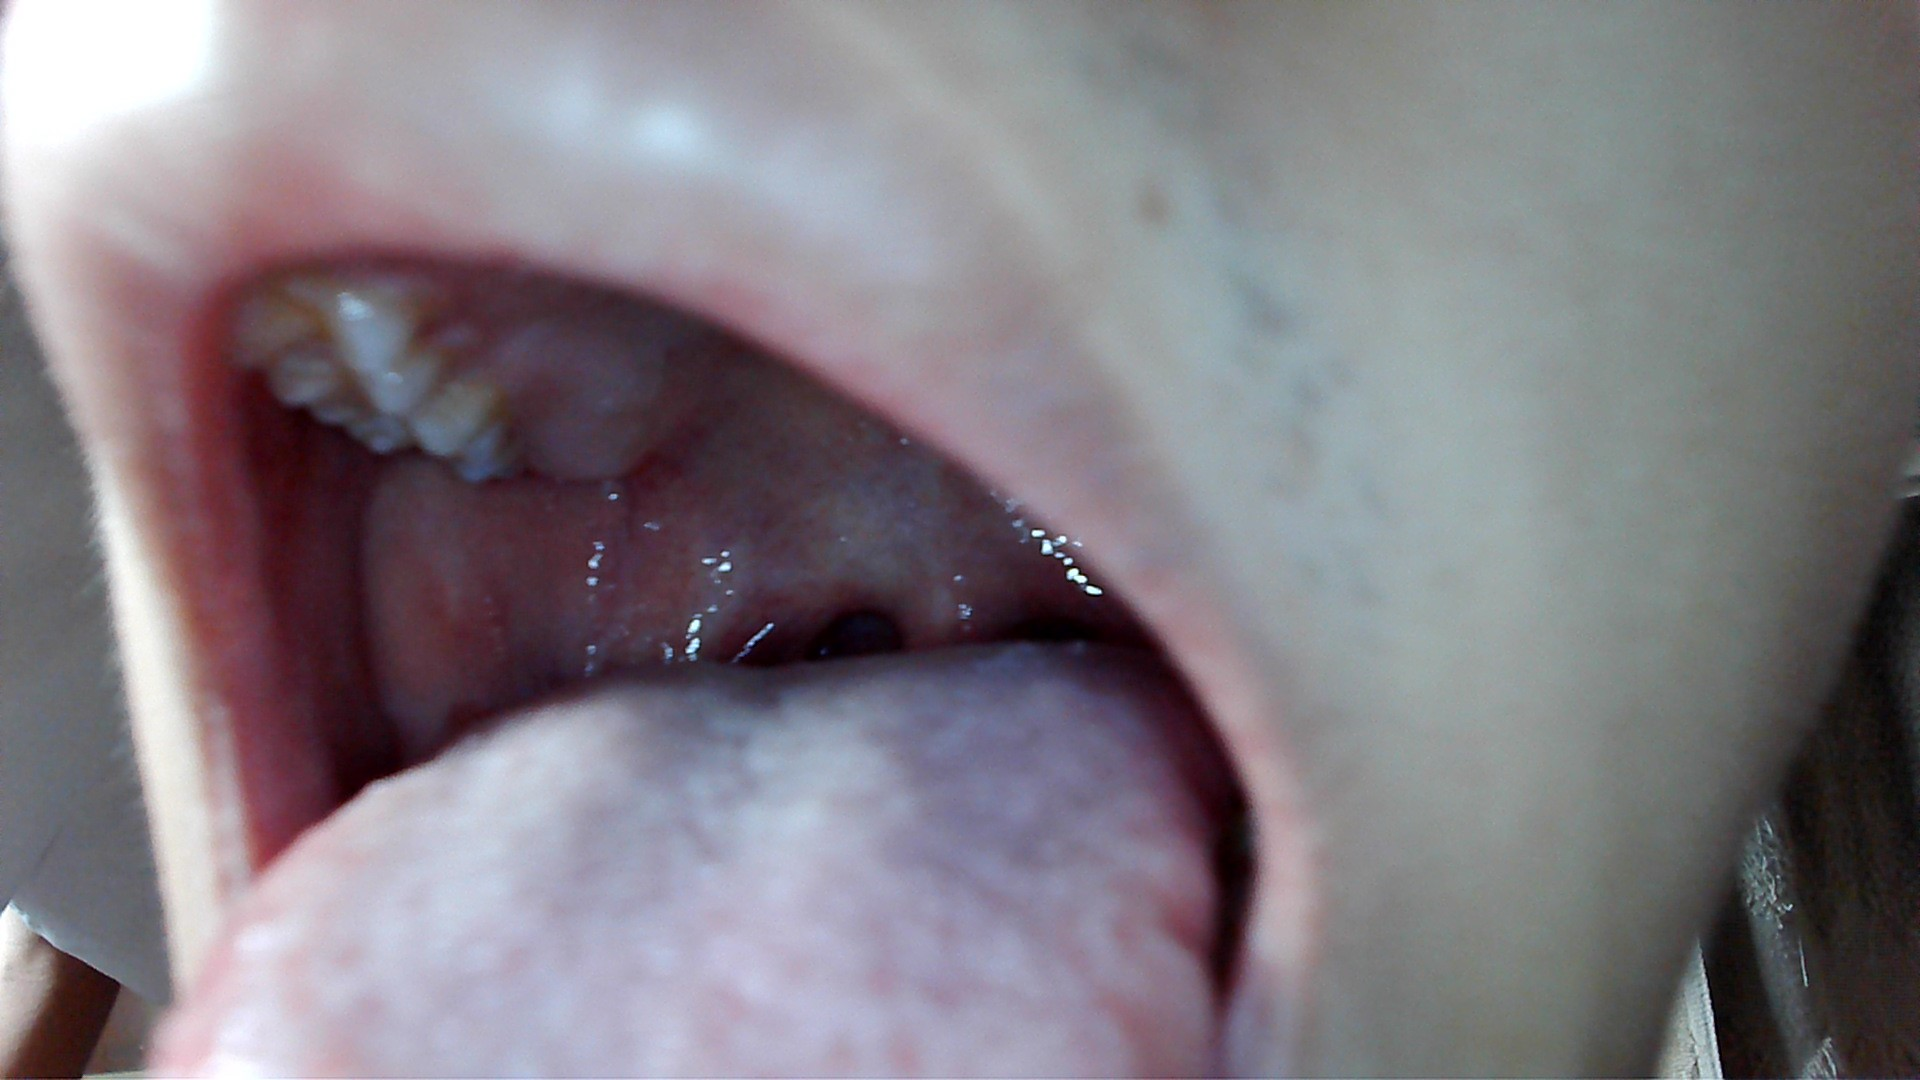throat: (713, 553, 855, 673)
